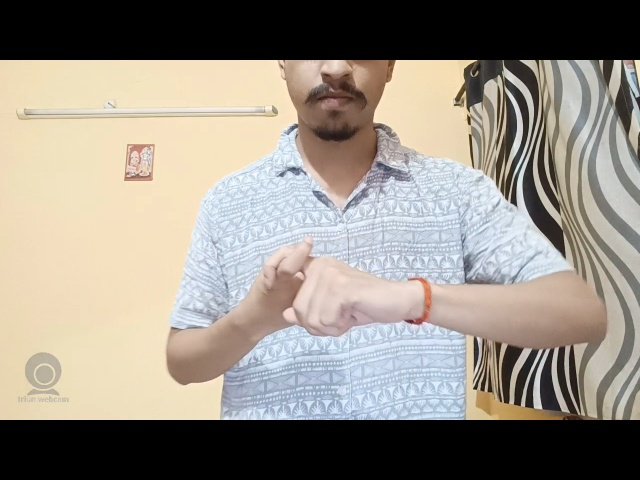Friend: (216, 226, 417, 356)
